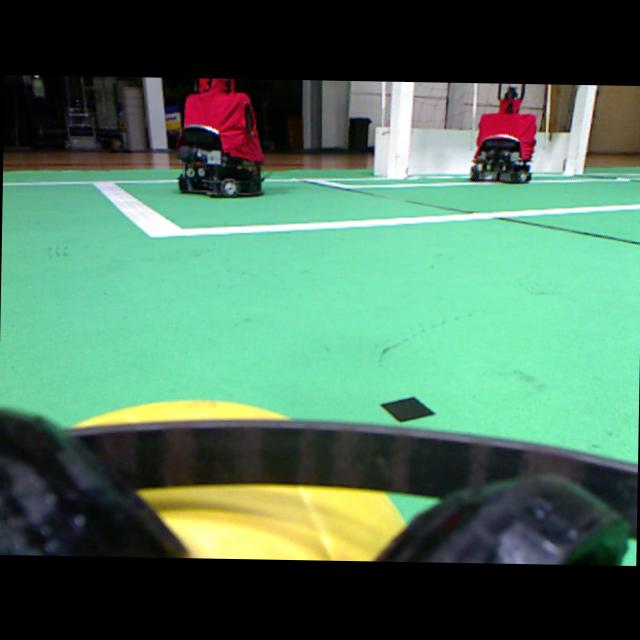ball: (138, 484, 403, 559), (71, 400, 287, 428), (71, 400, 287, 427)
goal: (564, 84, 595, 174), (387, 81, 412, 177)
